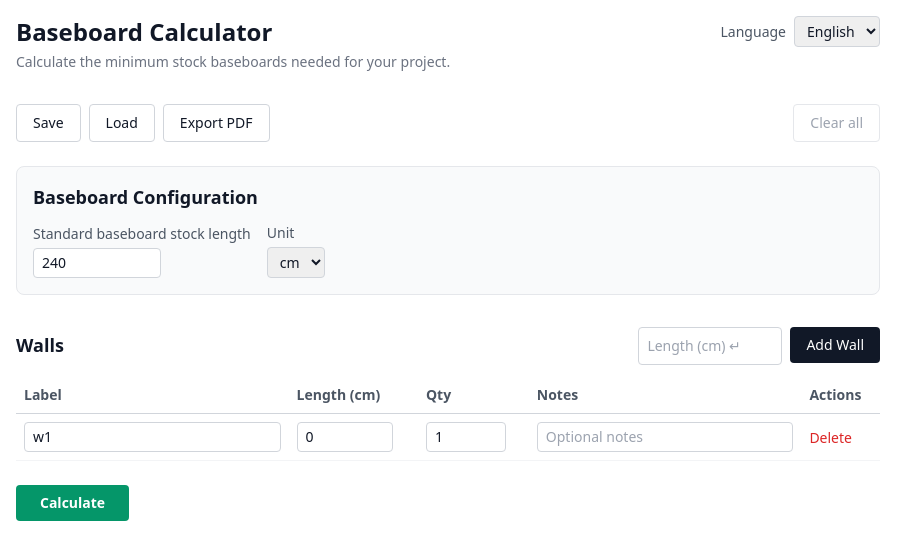
Test case: App › converts base length and wall lengths when switching units
Replace the text in the number field named "Length" with "125". click: (345, 437)
box: [297,422,393,452]
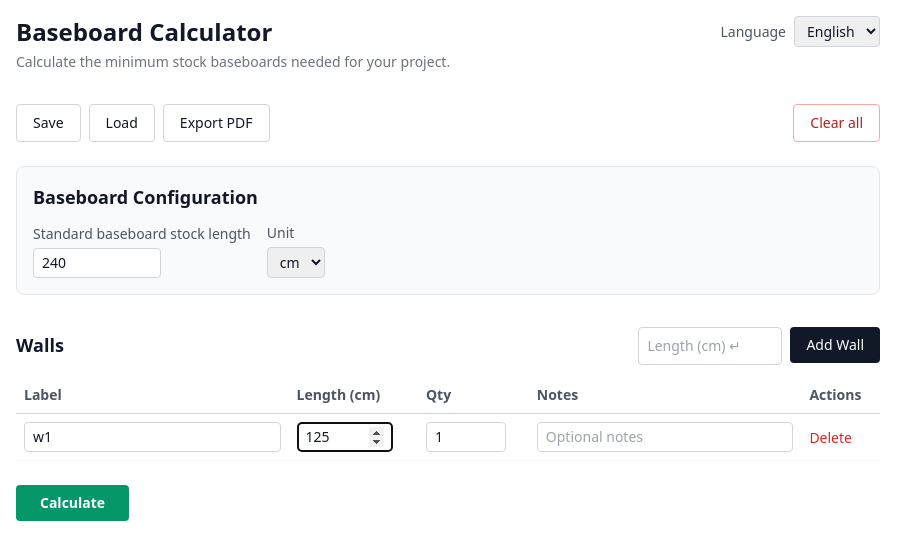
Select "m" in the dropdown labelled "Unit". click: (296, 262)
box: [267,247,325,278]
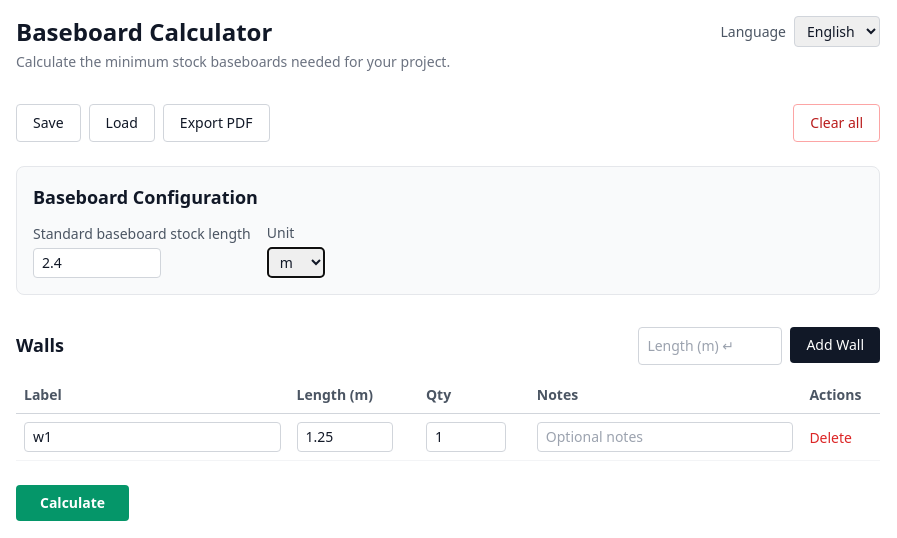
Expected: the number field labelled "Standard baseboard stock length" holds "2.4", [33,248,161,278]
Expected: the number field named "Length" holds "1.25", [297,422,393,452]
Select "in" in the dropdown labelled "Unit". click: (296, 262)
box: [267,247,325,278]
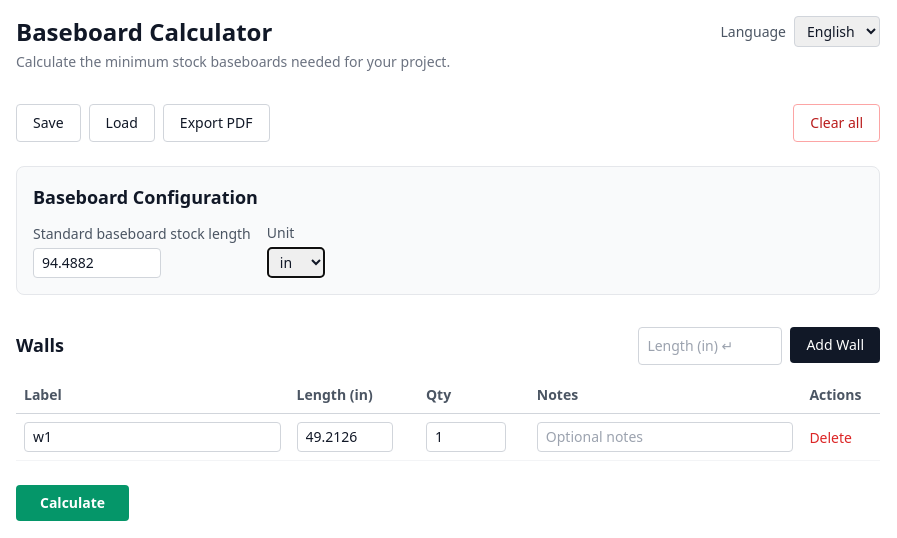
Expected: the number field labelled "Standard baseboard stock length" holds "94.4882", [33,248,161,278]
Expected: the number field named "Length" holds "49.2126", [297,422,393,452]
Select "cm" in the dropdown labelled "Unit". click: (296, 262)
box: [267,247,325,278]
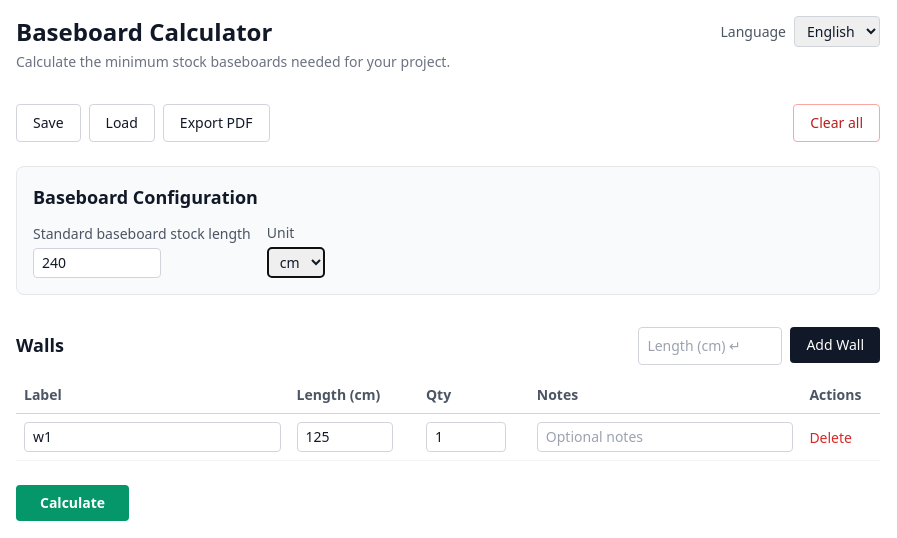
Expected: the number field labelled "Standard baseboard stock length" holds "240", [33,248,161,278]
